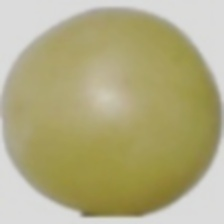grapes: (14, 21, 172, 210)
